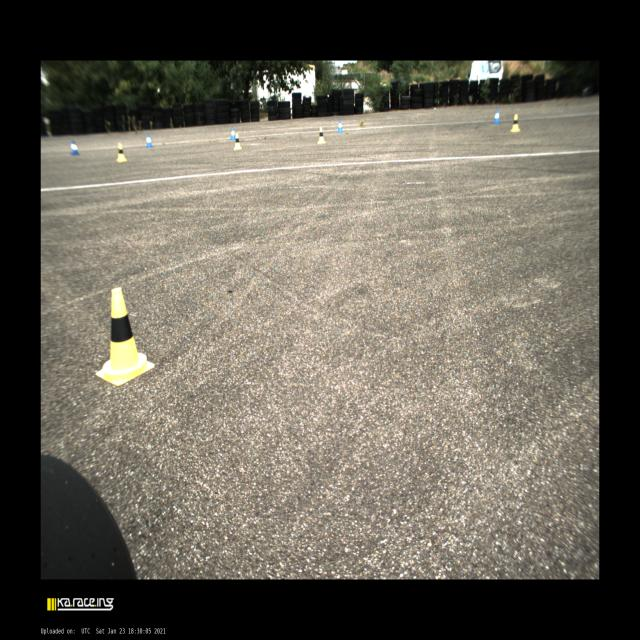blue_cone: (70, 139, 80, 155), (144, 132, 153, 148), (493, 109, 500, 124), (229, 127, 236, 141), (338, 119, 344, 134)
yellow_cone: (96, 288, 154, 387), (115, 142, 127, 162), (510, 114, 520, 132), (233, 133, 242, 150), (317, 127, 326, 144)
